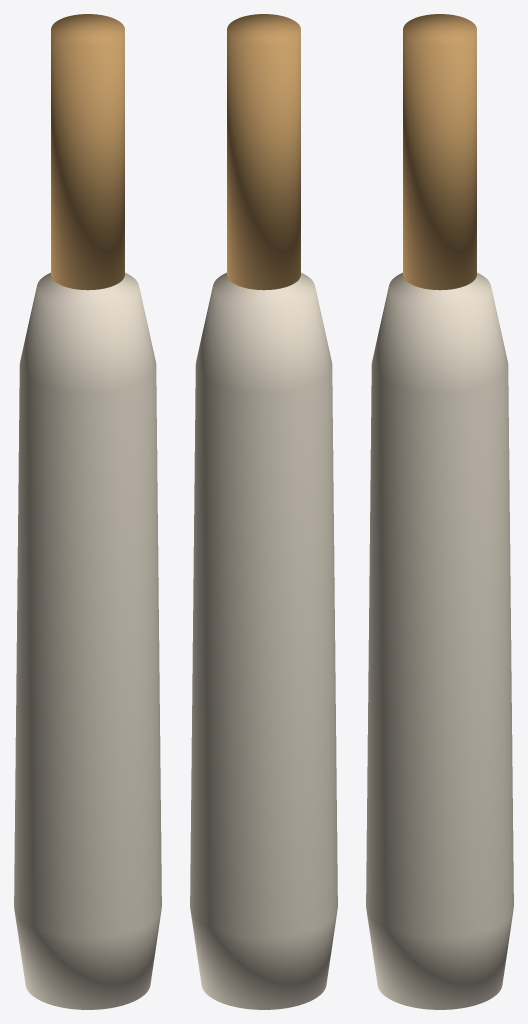
The picture shows the model from 3 angles, left to right: view 1: azimuth 30°, elevation 25°; view 2: azimuth 150°, elevation 25°; view 3: azimuth 270°, elevation 25°; orthographic projection.
Visible parts, largest first — view 1: folding-umbrella-each; view 2: folding-umbrella-each; view 3: folding-umbrella-each.
Part boxes in pixels (<box>): folding-umbrella-each: <box>14,14,161,1009</box>; folding-umbrella-each: <box>190,14,337,1009</box>; folding-umbrella-each: <box>366,14,513,1009</box>.
Size of the model in its own units: 0.052 by 0.37 by 0.052.
